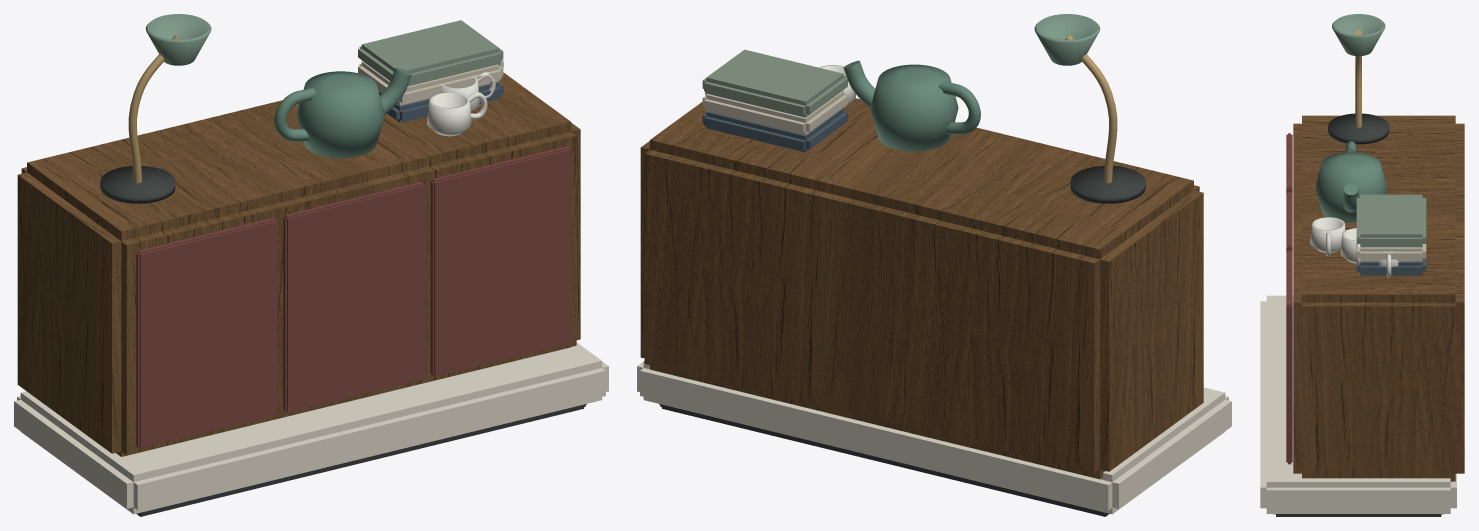
Rendered from collection_v29_home_1.glb.
3 renders of one model, left to right at view 1: azimuth 30°, elevation 25°; view 2: azimuth 150°, elevation 25°; view 3: azimuth 270°, elevation 25°, orthographic. The views are drawn at different scales.
Parts seen in each view (by area): view 1: collection_v29_home_1_V29_oxblood_lacquer, collection_v29_home_1_CC0_Oak_veneer, collection_v29_home_1_V29_ivory_lacquer, collection_v29_home_1_Glazed_ceramic_1.002, collection_v29_home_1_Woven_2.002, collection_v29_home_1_V23_soft_sage.004, collection_v29_home_1_V23_ceramic_graphite.007, collection_v29_home_1_Anodised_graphite, collection_v29_home_1_Glazed_ceramic_0.004, collection_v29_home_1_Woven_1.009, collection_v29_home_1_V23_satin_brass.008, collection_v29_home_1_Woven_0.002; view 2: collection_v29_home_1_CC0_Oak_veneer, collection_v29_home_1_V29_ivory_lacquer, collection_v29_home_1_Glazed_ceramic_1.002, collection_v29_home_1_Woven_2.002, collection_v29_home_1_Woven_1.009, collection_v29_home_1_Woven_0.002, collection_v29_home_1_V23_soft_sage.004, collection_v29_home_1_V23_ceramic_graphite.007, collection_v29_home_1_Anodised_graphite, collection_v29_home_1_V23_satin_brass.008; view 3: collection_v29_home_1_CC0_Oak_veneer, collection_v29_home_1_V29_ivory_lacquer, collection_v29_home_1_Woven_2.002, collection_v29_home_1_Glazed_ceramic_1.002, collection_v29_home_1_V29_oxblood_lacquer, collection_v29_home_1_V23_soft_sage.004, collection_v29_home_1_V23_ceramic_graphite.007, collection_v29_home_1_Glazed_ceramic_0.004, collection_v29_home_1_Woven_1.009, collection_v29_home_1_Woven_0.002, collection_v29_home_1_Glazed_ceramic_0.005, collection_v29_home_1_V23_satin_brass.008 (+2 smaller).
Part boxes in pixels (x1,y1,x2,y2): collection_v29_home_1_V29_oxblood_lacquer: (136,146,571,448); collection_v29_home_1_CC0_Oak_veneer: (17,72,580,456); collection_v29_home_1_V29_ivory_lacquer: (14,342,608,514); collection_v29_home_1_Glazed_ceramic_1.002: (274,67,411,158); collection_v29_home_1_Woven_2.002: (358,20,503,86); collection_v29_home_1_V23_soft_sage.004: (145,14,211,65); collection_v29_home_1_V23_ceramic_graphite.007: (100,166,175,203); collection_v29_home_1_Anodised_graphite: (136,404,586,516); collection_v29_home_1_Glazed_ceramic_0.004: (427,92,487,136); collection_v29_home_1_Woven_1.009: (358,61,503,105); collection_v29_home_1_V23_satin_brass.008: (128,35,180,183); collection_v29_home_1_Woven_0.002: (378,82,503,122); collection_v29_home_1_CC0_Oak_veneer: (640,98,1203,479); collection_v29_home_1_V29_ivory_lacquer: (637,360,1231,514); collection_v29_home_1_Glazed_ceramic_1.002: (843,60,980,151); collection_v29_home_1_Woven_2.002: (702,49,847,117); collection_v29_home_1_Woven_1.009: (702,91,847,134); collection_v29_home_1_Woven_0.002: (702,108,847,152); collection_v29_home_1_V23_soft_sage.004: (1034,14,1100,65); collection_v29_home_1_V23_ceramic_graphite.007: (1070,166,1145,203); collection_v29_home_1_Anodised_graphite: (659,404,1109,516); collection_v29_home_1_V23_satin_brass.008: (1065,35,1117,183); collection_v29_home_1_CC0_Oak_veneer: (1293,115,1464,481); collection_v29_home_1_V29_ivory_lacquer: (1260,295,1456,513); collection_v29_home_1_Woven_2.002: (1356,194,1426,247); collection_v29_home_1_Glazed_ceramic_1.002: (1315,141,1386,222); collection_v29_home_1_V29_oxblood_lacquer: (1286,133,1292,464); collection_v29_home_1_V23_soft_sage.004: (1332,14,1385,56); collection_v29_home_1_V23_ceramic_graphite.007: (1328,113,1389,144); collection_v29_home_1_Glazed_ceramic_0.004: (1310,217,1345,256); collection_v29_home_1_Woven_1.009: (1356,244,1426,261); collection_v29_home_1_Woven_0.002: (1356,258,1426,275); collection_v29_home_1_Glazed_ceramic_0.005: (1340,228,1360,264); collection_v29_home_1_V23_satin_brass.008: (1355,30,1361,127).
Size of the model in its own units: 1.8 by 1.54 by 0.81.
14 materials, 1 textured.
